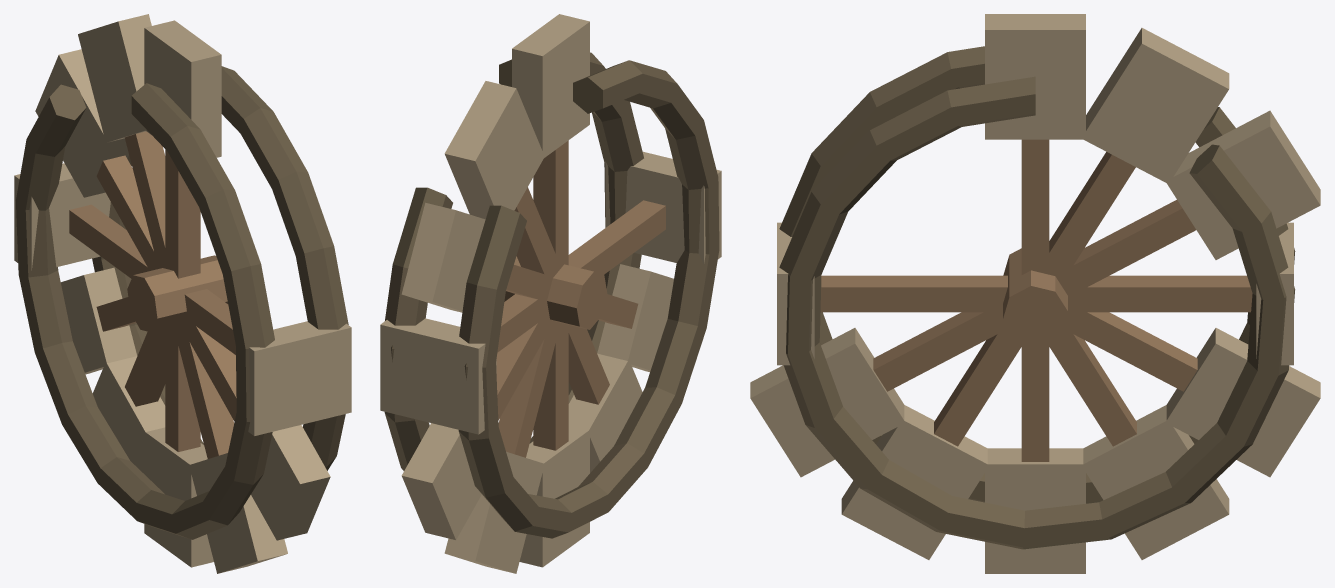
File: qc_watermill_wheel.obj
The picture shows the model from 3 angles, left to right: view 1: azimuth 30°, elevation 25°; view 2: azimuth 150°, elevation 25°; view 3: azimuth 270°, elevation 25°; orthographic projection. The views are drawn at different scales.
Visible parts, largest first — view 1: qc_watermill_wheel; view 2: qc_watermill_wheel; view 3: qc_watermill_wheel.
Part boxes in pixels (bbox=[...]): qc_watermill_wheel: bbox=[14, 14, 351, 573]; qc_watermill_wheel: bbox=[380, 14, 721, 573]; qc_watermill_wheel: bbox=[750, 14, 1320, 573].
Size of the model in its own units: 0.5072 by 2.38 by 2.26.
